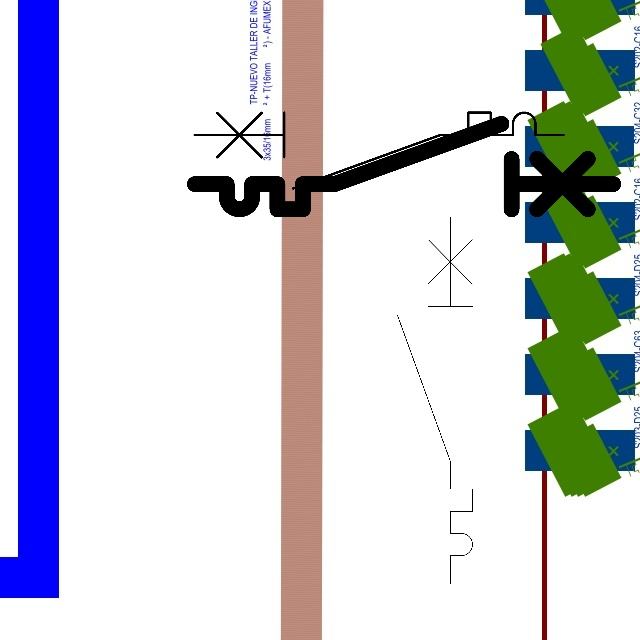interruptor_termomagnetico: (184, 113, 623, 220), (185, 103, 573, 198), (388, 208, 482, 593)
